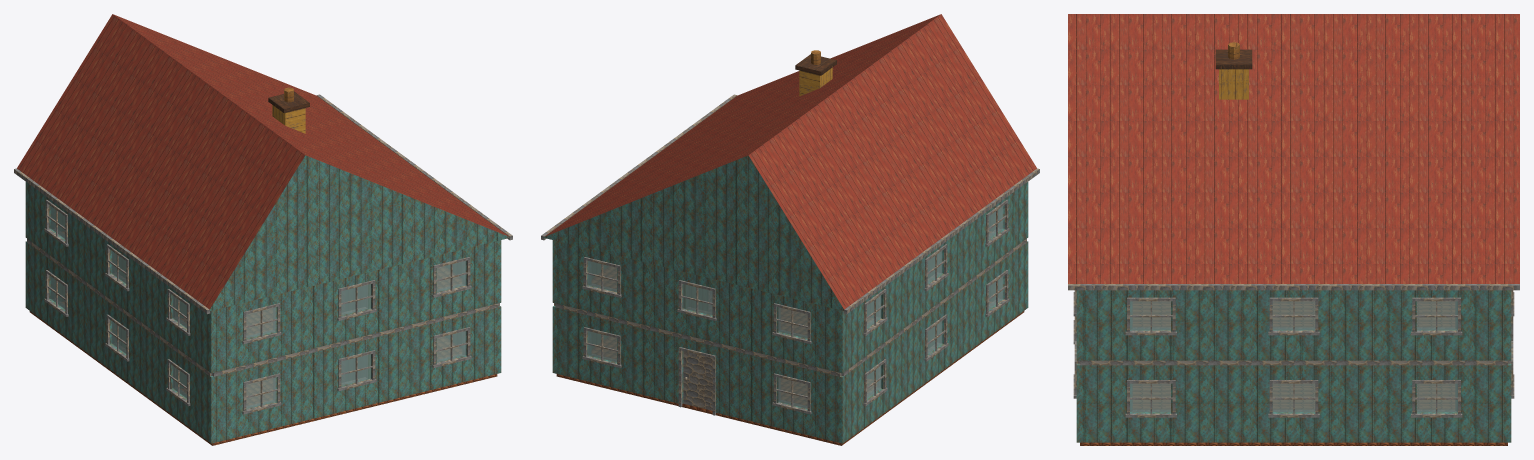
The model's file is saltmarsh-lean-to.gltf.
The picture shows the model from 3 angles, left to right: view 1: azimuth 30°, elevation 25°; view 2: azimuth 150°, elevation 25°; view 3: azimuth 270°, elevation 25°; orthographic projection. The views are drawn at different scales.
Parts seen in each view (by area): view 1: roof-L1-brown-shingle, exterior-L0-cream-siding, exterior-L1-cream-siding, roof-L1-cream-siding, trim-L1-dark-wood, trim-L0-dark-wood, glazing-L0-glass, glazing-L1-glass, roof-L1-dark-wood, exterior-L0-dark-wood, floor-L0-floor, floor-L1-floor (+4 smaller); view 2: roof-L1-brown-shingle, exterior-L0-cream-siding, exterior-L1-cream-siding, roof-L1-cream-siding, trim-L1-dark-wood, trim-L0-dark-wood, glazing-L1-glass, glazing-L0-glass, roof-L1-dark-wood, exterior-L0-dark-wood, floor-L0-floor, door-leaf-L0-dark-wood (+4 smaller); view 3: roof-L1-brown-shingle, exterior-L0-cream-siding, exterior-L1-cream-siding, floor-L0-floor, glazing-L1-glass, glazing-L0-glass, trim-L0-dark-wood, roof-L1-dark-wood, trim-L1-dark-wood, exterior-L0-dark-wood, floor-L1-floor, details-L1-brick (+1 smaller).
Boxes of the visible parts, x1,y1,x2,y2 form: roof-L1-brown-shingle: (17, 14, 508, 309); exterior-L0-cream-siding: (25, 241, 501, 443); exterior-L1-cream-siding: (25, 182, 501, 373); roof-L1-cream-siding: (210, 155, 509, 310); trim-L1-dark-wood: (44, 199, 471, 344); trim-L0-dark-wood: (44, 270, 471, 414); glazing-L0-glass: (50, 276, 465, 408); glazing-L1-glass: (50, 206, 465, 338); roof-L1-dark-wood: (14, 94, 512, 314); exterior-L0-dark-wood: (27, 239, 499, 376); floor-L0-floor: (29, 301, 497, 445); floor-L1-floor: (63, 231, 461, 334); roof-L1-brown-shingle: (545, 14, 1036, 309); exterior-L0-cream-siding: (552, 241, 1028, 443); exterior-L1-cream-siding: (552, 182, 1028, 373); roof-L1-cream-siding: (544, 155, 844, 310); trim-L1-dark-wood: (582, 199, 1009, 344); trim-L0-dark-wood: (582, 270, 1009, 415); glazing-L1-glass: (588, 206, 1003, 338); glazing-L0-glass: (588, 276, 1003, 408); roof-L1-dark-wood: (541, 94, 1039, 314); exterior-L0-dark-wood: (554, 239, 1026, 376); floor-L0-floor: (556, 301, 1024, 445); door-leaf-L0-dark-wood: (683, 351, 712, 410); roof-L1-brown-shingle: (1068, 14, 1519, 283); exterior-L0-cream-siding: (1076, 363, 1511, 442); exterior-L1-cream-siding: (1076, 290, 1511, 360); floor-L0-floor: (1080, 384, 1507, 445); glazing-L1-glass: (1130, 301, 1457, 330); glazing-L0-glass: (1130, 383, 1457, 412); trim-L0-dark-wood: (1073, 316, 1514, 417); roof-L1-dark-wood: (1068, 284, 1519, 290); trim-L1-dark-wood: (1073, 290, 1514, 335); exterior-L0-dark-wood: (1076, 360, 1511, 365); floor-L1-floor: (1133, 302, 1454, 326); details-L1-brick: (1219, 69, 1248, 99).
Bounding box in the file's own units: 9.66 × 8.25 × 10.56.
11 materials, 10 textured.
